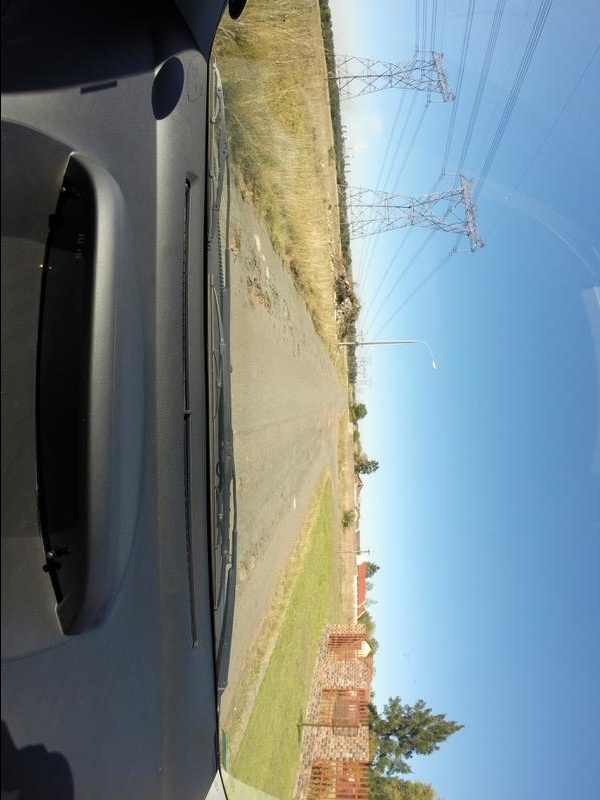pothole: (252, 282, 272, 301), (227, 226, 237, 255), (242, 253, 261, 267), (236, 562, 246, 579), (247, 279, 252, 308), (248, 553, 253, 574), (284, 304, 289, 321), (296, 342, 301, 358), (237, 477, 241, 497)
